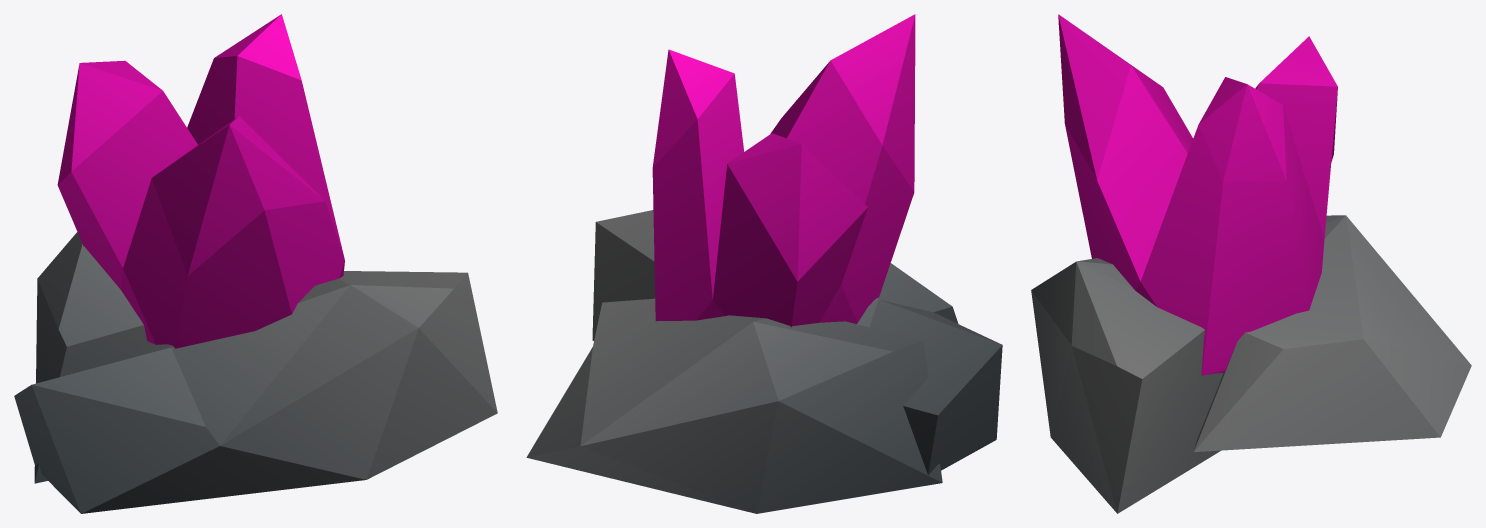
The model's file is Dolomite .fbx.
3 renders of one model, left to right at view 1: azimuth 30°, elevation 25°; view 2: azimuth 150°, elevation 25°; view 3: azimuth 270°, elevation 25°, orthographic. The views are drawn at different scales.
Parts seen in each view (by area): view 1: DOLOMITE GEM.001; view 2: DOLOMITE GEM.001; view 3: DOLOMITE GEM.001.
Boxes of the visible parts, x1,y1,x2,y2 form: DOLOMITE GEM.001: (14,14,497,513); DOLOMITE GEM.001: (526,14,1002,513); DOLOMITE GEM.001: (1031,14,1471,513).
Size of the model in its own units: 208 by 176 by 190.
2 materials, 2 textured.
